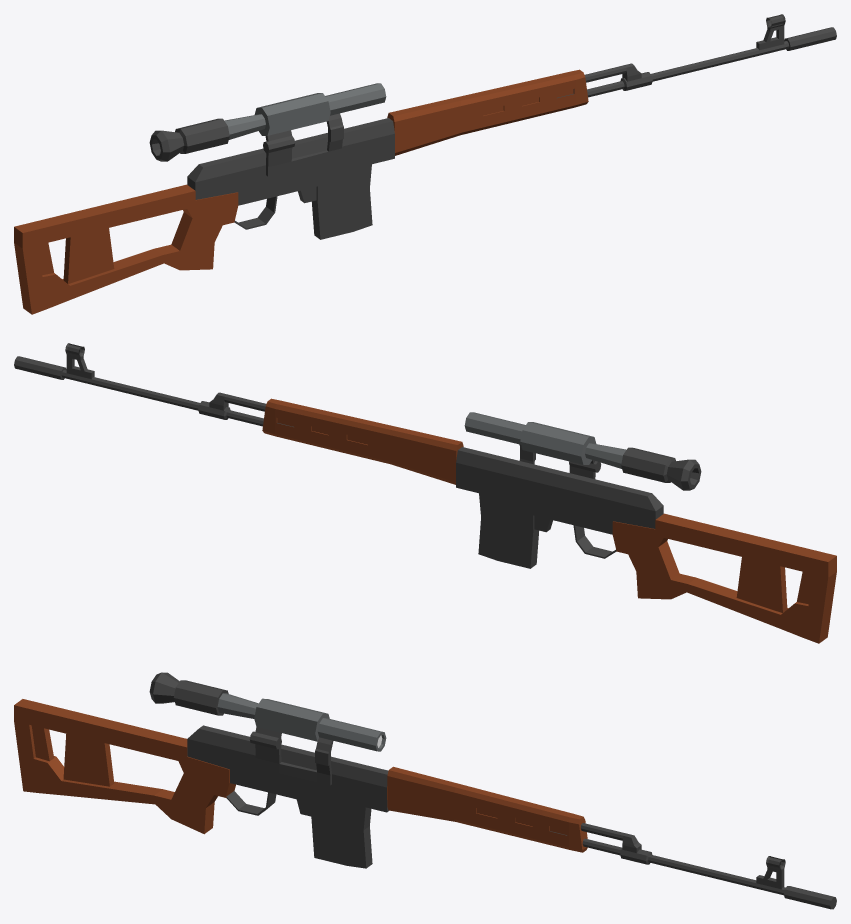
Rendered from dmr.glb.
3 views of the same model, one above another, from view 1: azimuth 30°, elevation 25°; view 2: azimuth 150°, elevation 25°; view 3: azimuth 330°, elevation 25° (orthographic).
Visible parts, largest first — view 1: Cylinder.008; view 2: Cylinder.008; view 3: Cylinder.008.
Boxes of the visible parts, bbox=[...] form: Cylinder.008: bbox=[14, 14, 836, 314]; Cylinder.008: bbox=[14, 343, 836, 643]; Cylinder.008: bbox=[14, 672, 836, 909].
Size of the model in its own units: 8.64 by 1.5 by 0.3365.
